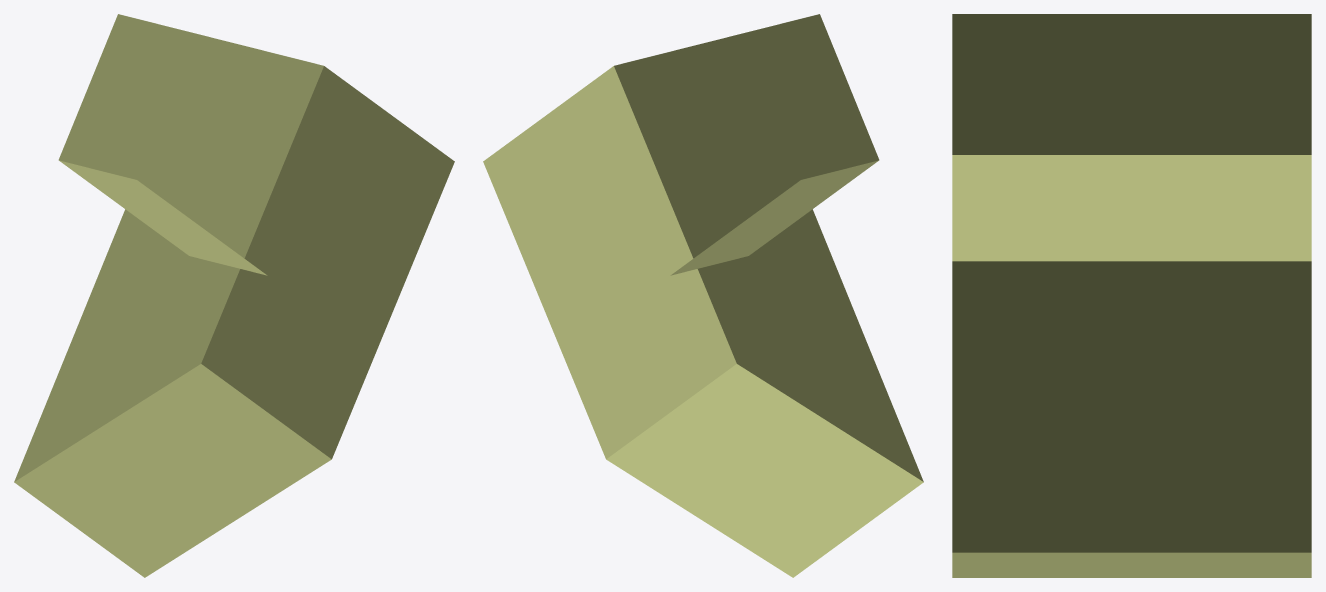
3 views of the same model, side by side, from view 1: azimuth 30°, elevation 25°; view 2: azimuth 150°, elevation 25°; view 3: azimuth 270°, elevation 25° (orthographic). The views are drawn at different scales.
Parts seen in each view (by area): view 1: 0_1_0_0_0_1_0_2_1_2; view 2: 0_1_0_0_0_1_0_2_1_2; view 3: 0_1_0_0_0_1_0_2_1_2.
Boxes of the visible parts, x1=… form: 0_1_0_0_0_1_0_2_1_2: x1=14, y1=14, x2=454, y2=577; 0_1_0_0_0_1_0_2_1_2: x1=483, y1=14, x2=923, y2=577; 0_1_0_0_0_1_0_2_1_2: x1=952, y1=14, x2=1311, y2=577.
Bounding box in the file's own units: 8.21 × 11.21 × 6.
